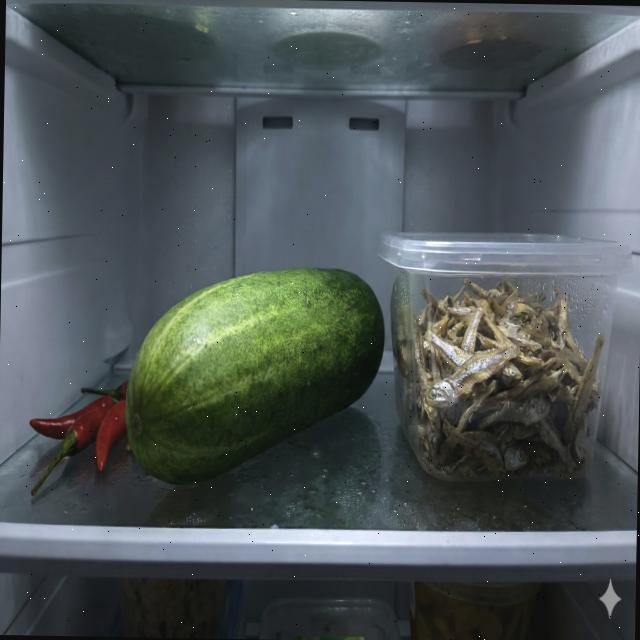anchovies: (392, 279, 606, 481)
chili: (28, 378, 128, 500)
cucumber: (123, 262, 386, 489)
